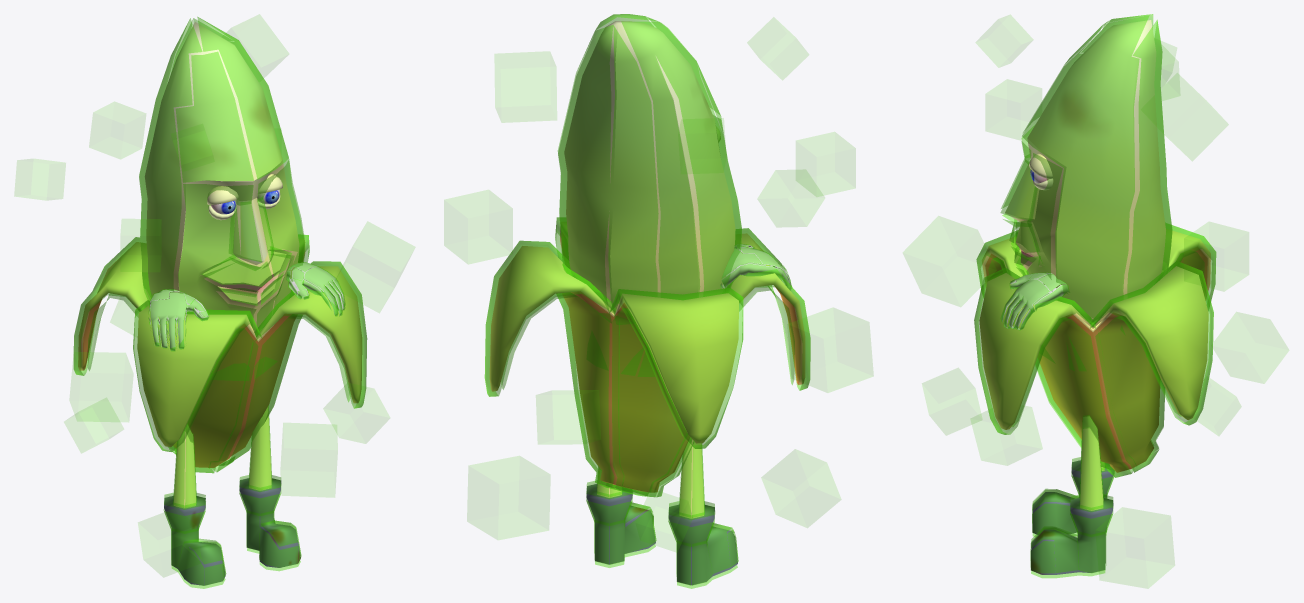
Rendered from radioactive_banana_V3.glb.
3 renders of one model, left to right at view 1: azimuth 30°, elevation 25°; view 2: azimuth 150°, elevation 25°; view 3: azimuth 270°, elevation 25°, orthographic. The views are drawn at different scales.
Parts seen in each view (by area): view 1: main body_Material.001_0.001, main body, banana peel_Material.002_0.001, banana peel, legs_Material.006_0.001, legs, Cube.003, Cube.006, Cube.009, arms, arms_Material.007_0.001, Cube (+8 smaller); view 2: main body_Material.001_0.001, banana peel_Material.002_0.001, main body, banana peel, legs, legs_Material.006_0.001, Cube.009, Cube.006, Cube.010, Cube.008, Cube, Cube.005 (+7 smaller); view 3: banana peel_Material.002_0.001, main body_Material.001_0.001, main body, banana peel, legs_Material.006_0.001, legs, Cube.003, Cube.009, Cube.008, Cube.010, Cube.005, Cube.011 (+7 smaller).
Part boxes in pixels (x1,y1,x2,y2): main body_Material.001_0.001: (139, 17, 304, 380); main body: (145, 22, 299, 334); banana peel_Material.002_0.001: (73, 234, 367, 473); banana peel: (78, 239, 362, 467); legs_Material.006_0.001: (164, 406, 301, 588); legs: (164, 407, 300, 585); Cube.003: (332, 222, 414, 312); Cube.006: (70, 352, 132, 421); Cube.009: (281, 423, 337, 496); arms: (149, 262, 344, 350); arms_Material.007_0.001: (148, 262, 345, 350); Cube: (138, 508, 201, 576); main body_Material.001_0.001: (558, 14, 741, 376); banana peel_Material.002_0.001: (484, 217, 810, 497); main body: (564, 21, 735, 311); banana peel: (489, 222, 805, 492); legs: (586, 438, 737, 585); legs_Material.006_0.001: (586, 440, 738, 588); Cube.009: (467, 456, 549, 539); Cube.006: (787, 308, 872, 392); Cube.010: (444, 190, 512, 263); Cube.008: (495, 52, 556, 122); Cube: (762, 449, 840, 527); Cube.005: (536, 390, 600, 443); banana peel_Material.002_0.001: (974, 223, 1216, 477); main body_Material.001_0.001: (1000, 14, 1172, 370); main body: (1005, 20, 1165, 326); banana peel: (979, 229, 1210, 472); legs_Material.006_0.001: (1030, 415, 1114, 577); legs: (1031, 416, 1114, 574); Cube.003: (903, 216, 995, 306); Cube.009: (1096, 508, 1174, 587); Cube.008: (1141, 73, 1227, 160); Cube.010: (1184, 222, 1248, 290); Cube.005: (1213, 312, 1288, 383); Cube.011: (922, 368, 981, 434).
Bounding box in the file's own units: 1.21 × 1.91 × 1.25.
Materials: 9 (6 with a texture image).
